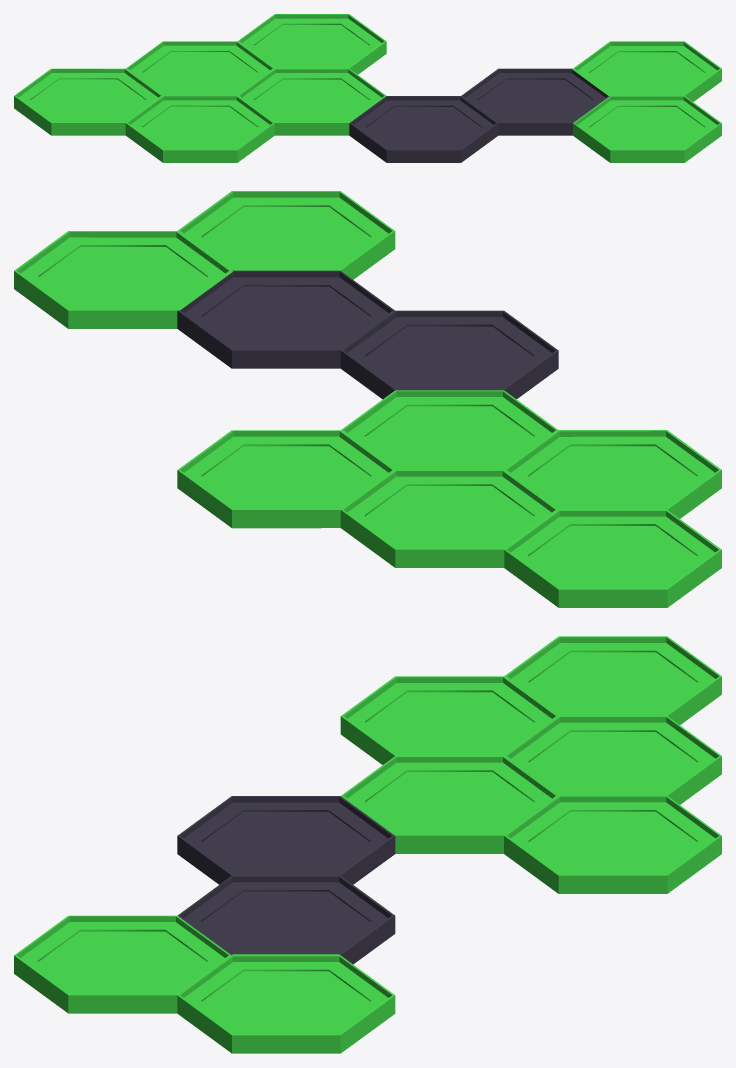
Rendered from MoldInsertStage1_2.fbx.
3 renders of one model, top to bottom at view 1: azimuth 30°, elevation 25°; view 2: azimuth 150°, elevation 25°; view 3: azimuth 270°, elevation 25°, orthographic. The views are drawn at different scales.
Parts seen in each view (by area): view 1: MoldInsertStage1_2; view 2: MoldInsertStage1_2; view 3: MoldInsertStage1_2.
Part boxes in pixels (<box>): MoldInsertStage1_2: <box>14,14,721,162</box>; MoldInsertStage1_2: <box>14,191,721,607</box>; MoldInsertStage1_2: <box>14,636,721,1053</box>.
Size of the model in its own units: 910 by 19.76 by 683.
